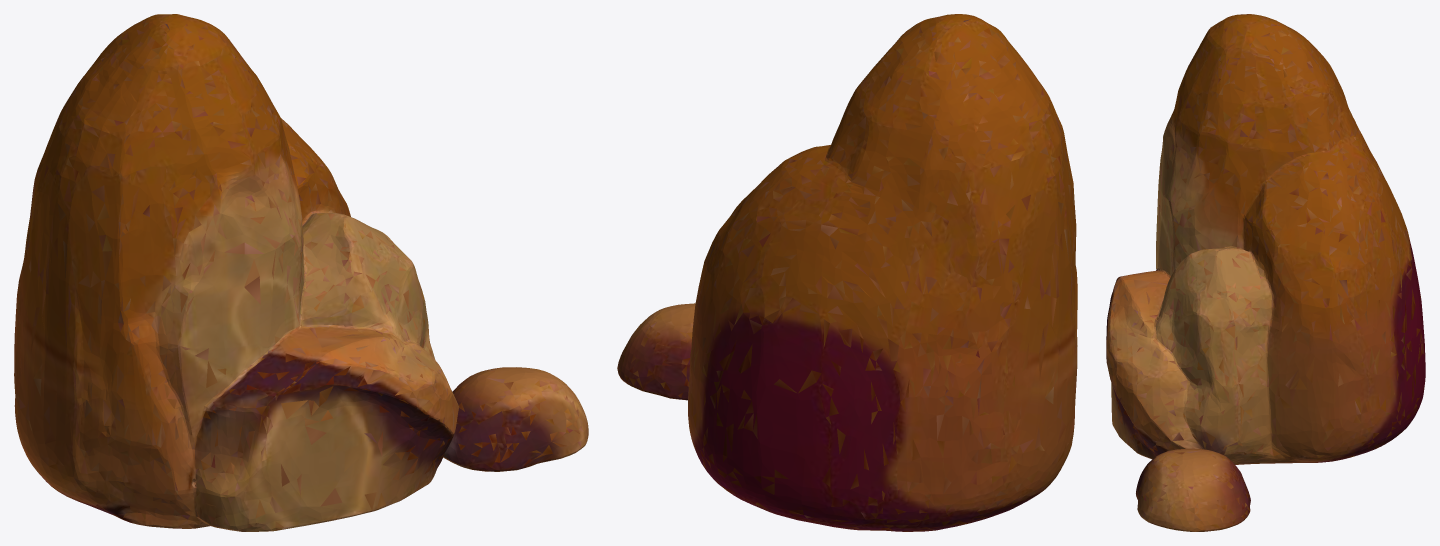
File: desert-rocks-raw_preview.glb
3 renders of one model, left to right at view 1: azimuth 30°, elevation 25°; view 2: azimuth 150°, elevation 25°; view 3: azimuth 270°, elevation 25°, orthographic. The views are drawn at different scales.
Parts seen in each view (by area): view 1: geometry_0; view 2: geometry_0; view 3: geometry_0.
Part boxes in pixels (left/top/right/bottom): geometry_0: left=14, top=14, right=588, bottom=531; geometry_0: left=617, top=14, right=1077, bottom=531; geometry_0: left=1106, top=14, right=1425, bottom=531.
Bounding box in the file's own units: 1.99 × 1.81 × 1.41.
Materials: 1 (1 with a texture image).
